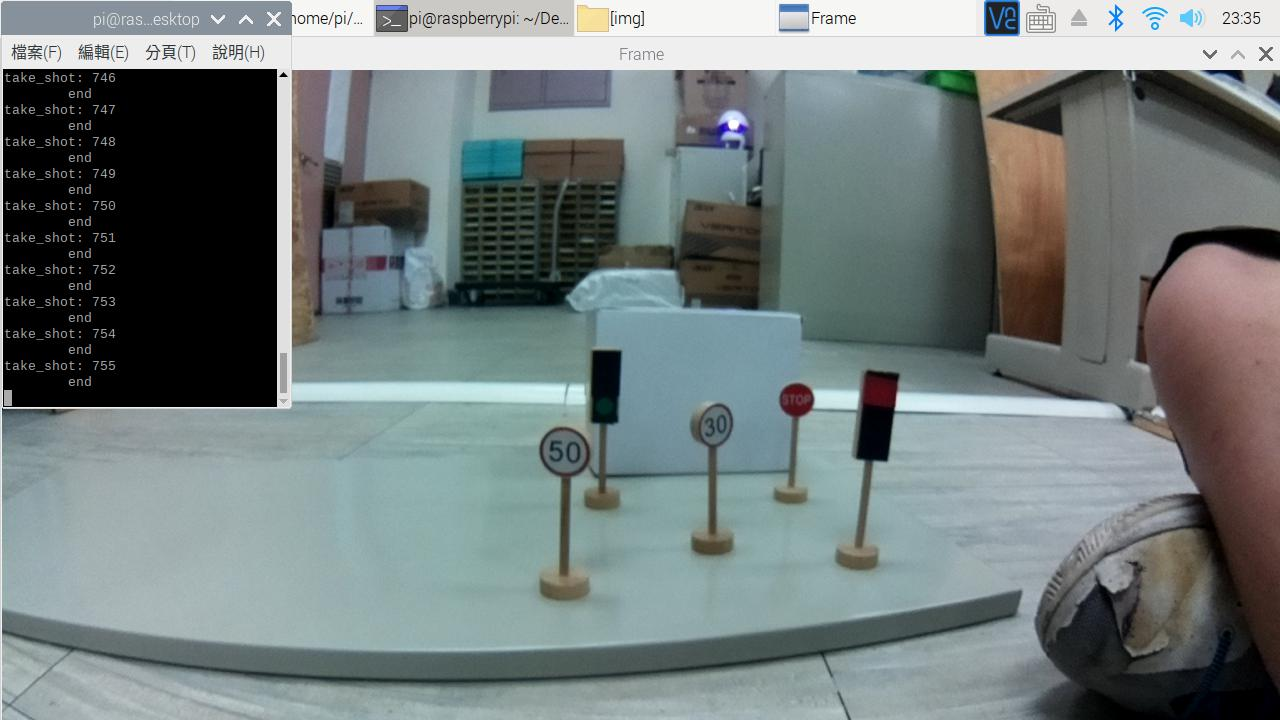Green: (579, 339, 634, 436)
Red: (837, 353, 912, 468)
Speed30: (687, 392, 737, 447)
Speed50: (535, 420, 609, 492)
Stop: (777, 378, 829, 418)
